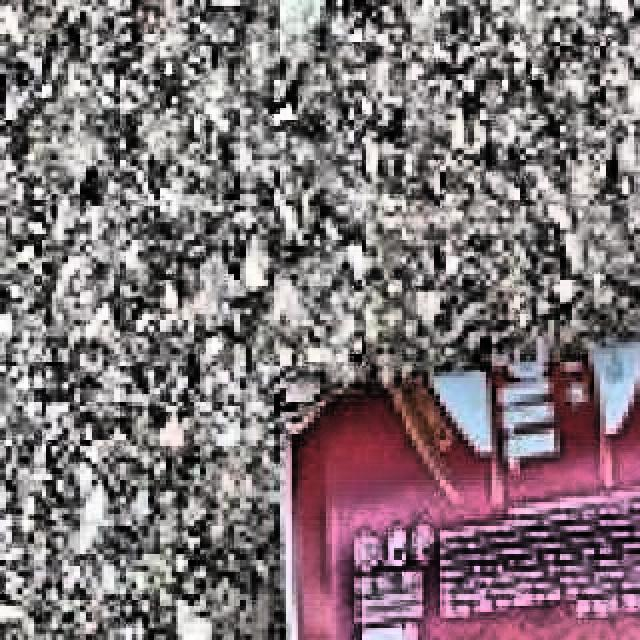metal: (281, 340, 640, 640)
